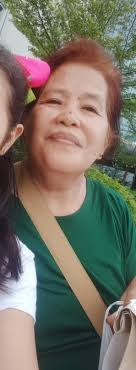asian_female: (26, 63, 109, 193)
